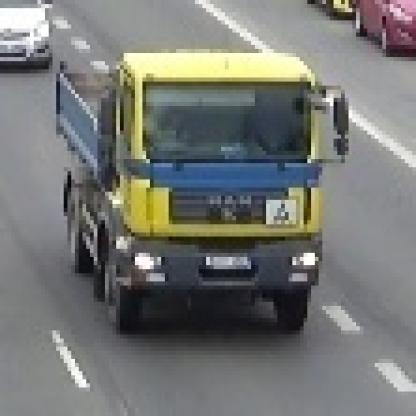truck: (42, 1, 349, 327)
